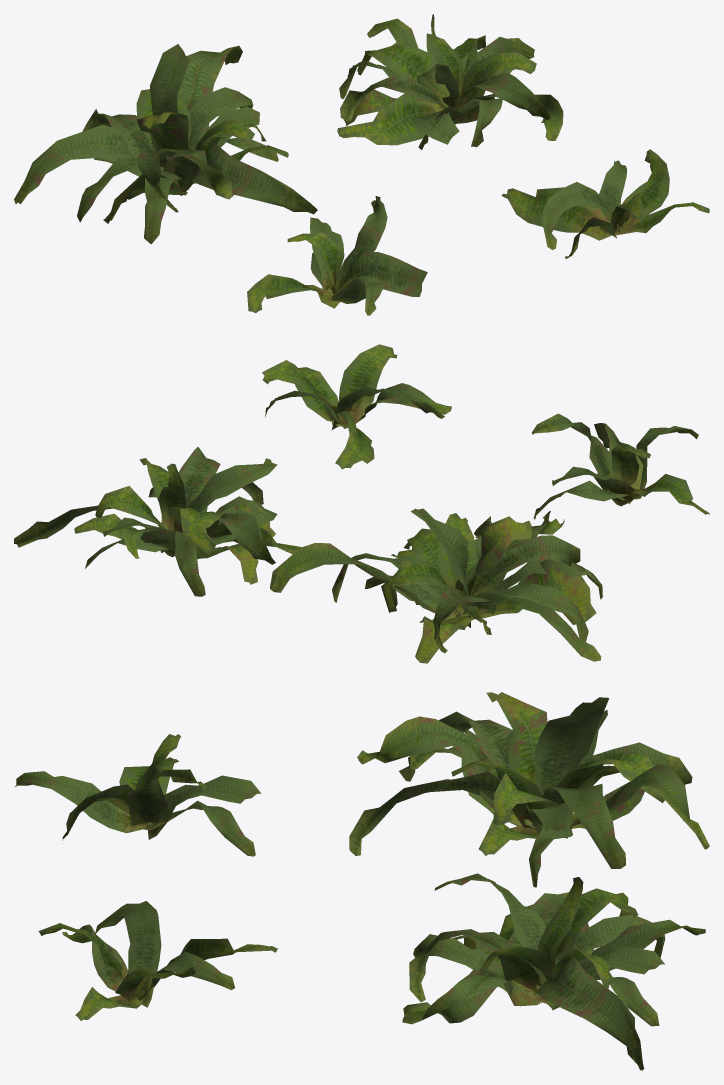
Rendered from fern_02.glb.
The picture shows the model from 3 angles, top to bottom: view 1: azimuth 30°, elevation 25°; view 2: azimuth 150°, elevation 25°; view 3: azimuth 270°, elevation 25°; orthographic projection. The views are drawn at different scales.
Parts seen in each view (by area): view 1: fern_02_b, fern_02_c, fern_02_a, fern_02_d; view 2: fern_02_b, fern_02_c, fern_02_d, fern_02_a; view 3: fern_02_b, fern_02_c, fern_02_a, fern_02_d.
Part boxes in pixels (bbox=[...]): fern_02_b: bbox=[14, 44, 317, 244]; fern_02_c: bbox=[337, 14, 563, 149]; fern_02_a: bbox=[247, 196, 427, 315]; fern_02_d: bbox=[501, 149, 709, 258]; fern_02_b: bbox=[270, 508, 602, 663]; fern_02_c: bbox=[14, 447, 301, 596]; fern_02_d: bbox=[262, 344, 451, 469]; fern_02_a: bbox=[531, 413, 709, 519]; fern_02_b: bbox=[349, 692, 709, 887]; fern_02_c: bbox=[402, 873, 705, 1070]; fern_02_a: bbox=[15, 734, 261, 856]; fern_02_d: bbox=[38, 901, 277, 1020].
Size of the model in its own units: 1.97 by 0.4277 by 1.72.
1 material, 1 textured.
